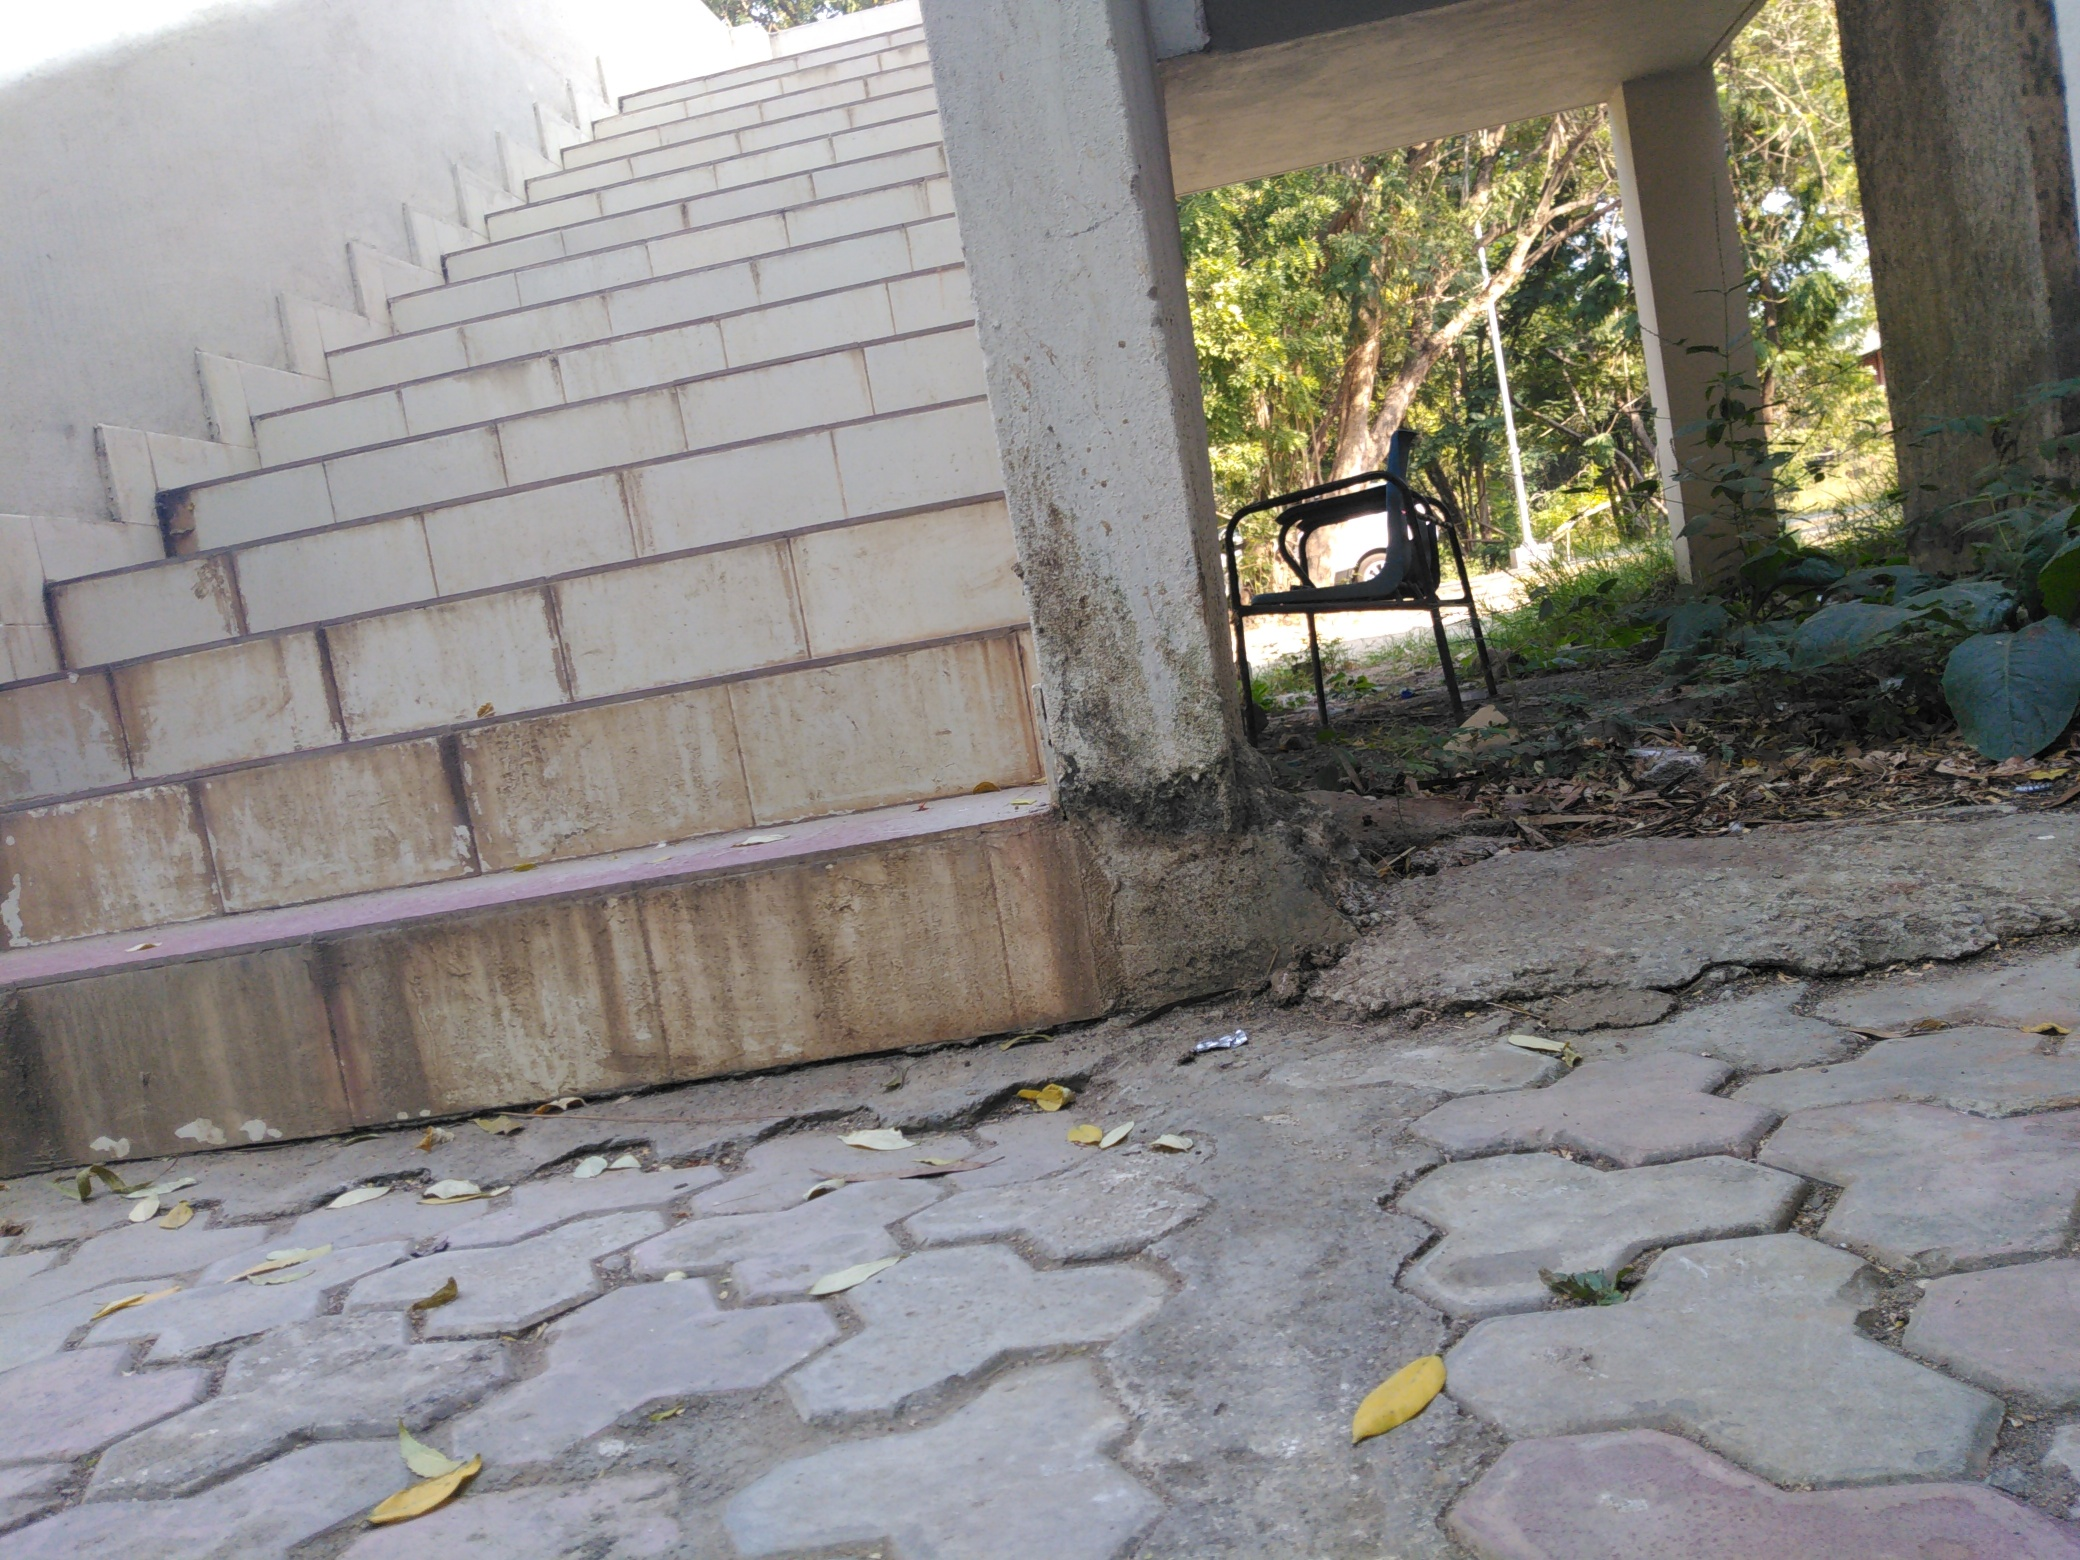stairs_up: (20, 97, 1096, 1049)
